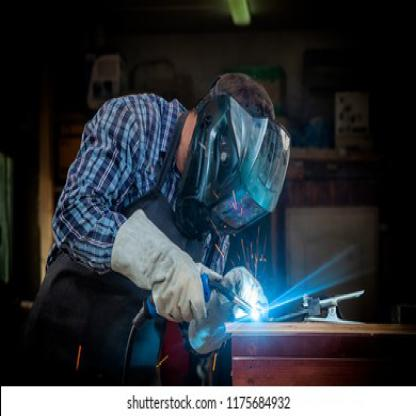with_gloves: (110, 206, 222, 322), (188, 260, 269, 357)
